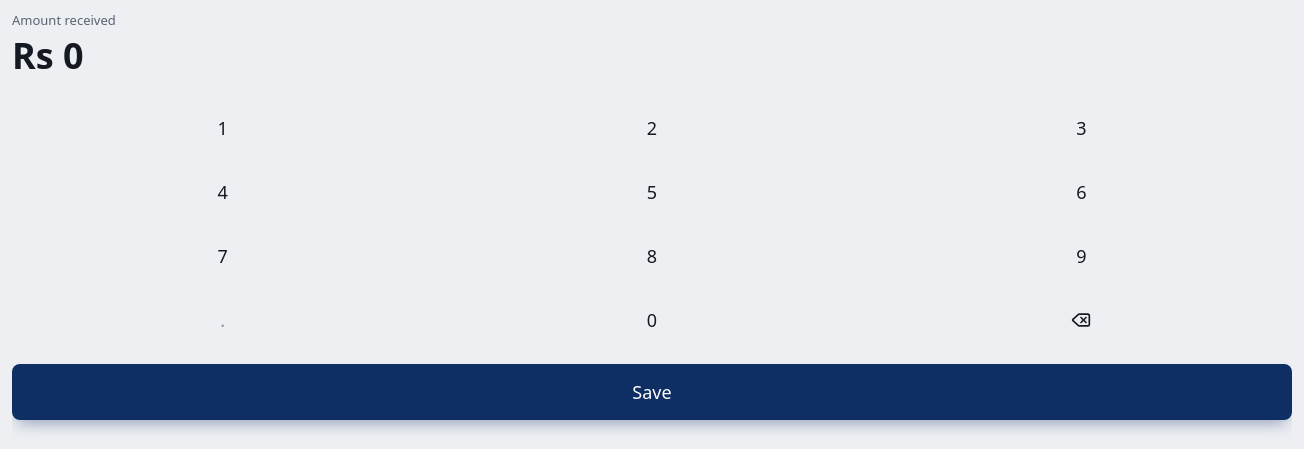
Test: digits build minor units from the right — no decimal-point state machine
What coordinates should you click on to do the following:
click the button "5"
I would click on:
 (652, 192)
Its box is [441, 164, 863, 220].
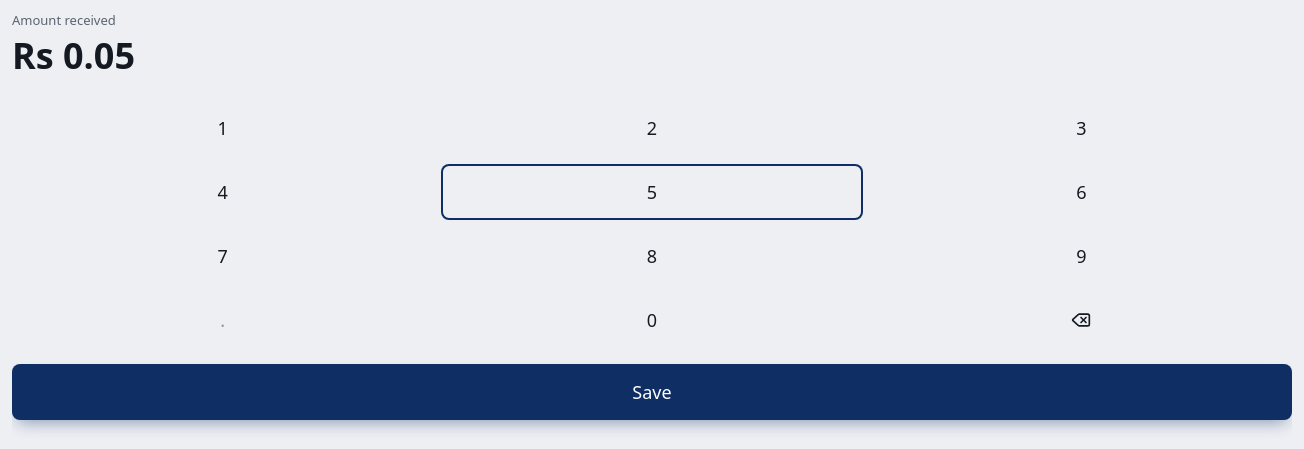
What coordinates should you click on to do the following:
click the button "0"
I would click on:
 (652, 320)
Its box is [441, 292, 863, 348].
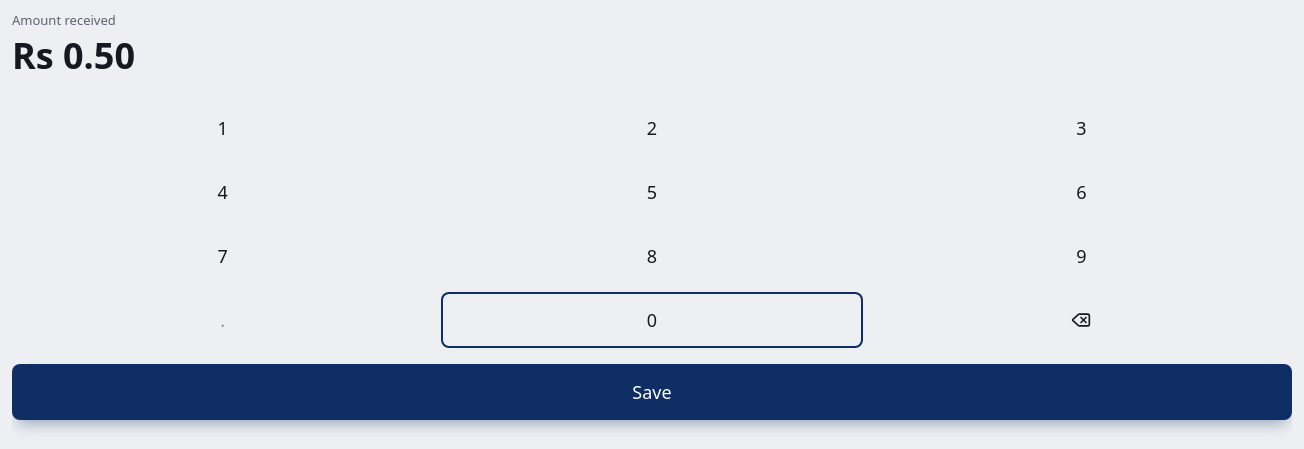
What coordinates should you click on to do the following:
click the button "0"
I would click on:
 (652, 320)
Its box is [441, 292, 863, 348].
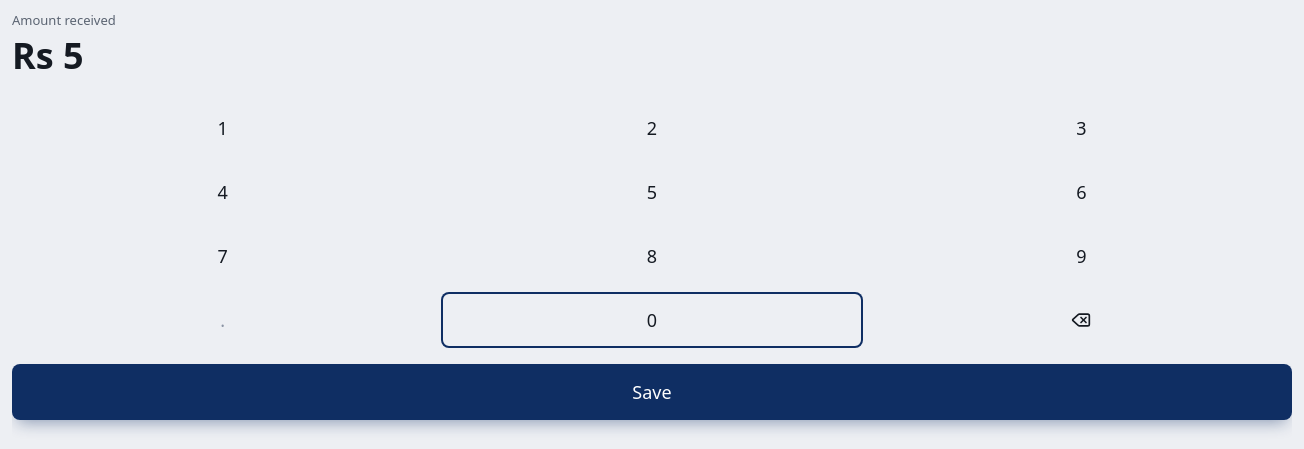
What coordinates should you click on to do the following:
click the button "0"
I would click on:
 (652, 320)
Its box is [441, 292, 863, 348].
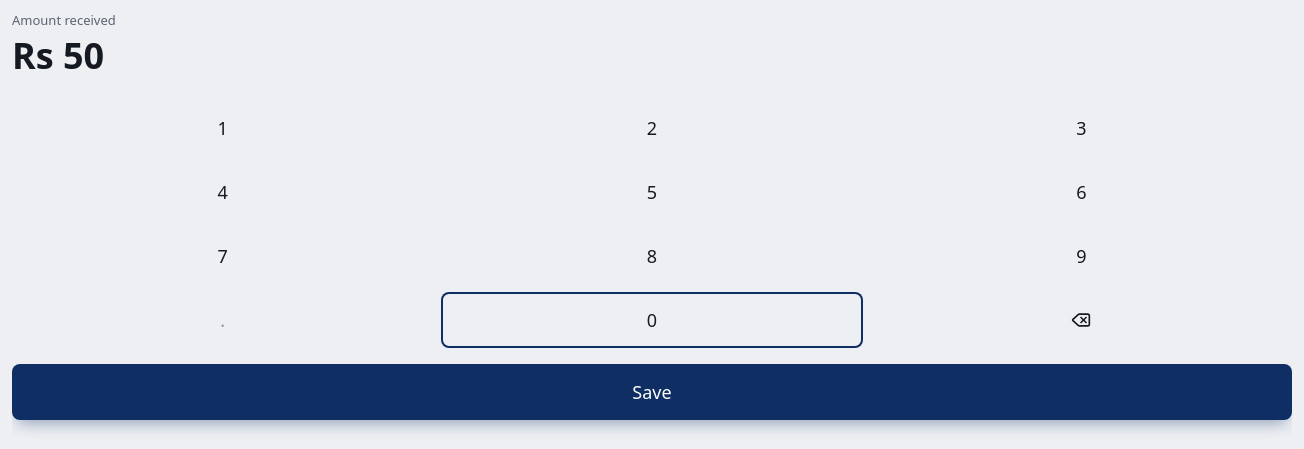
What coordinates should you click on to do the following:
click the button "0"
I would click on:
 (652, 320)
Its box is [441, 292, 863, 348].
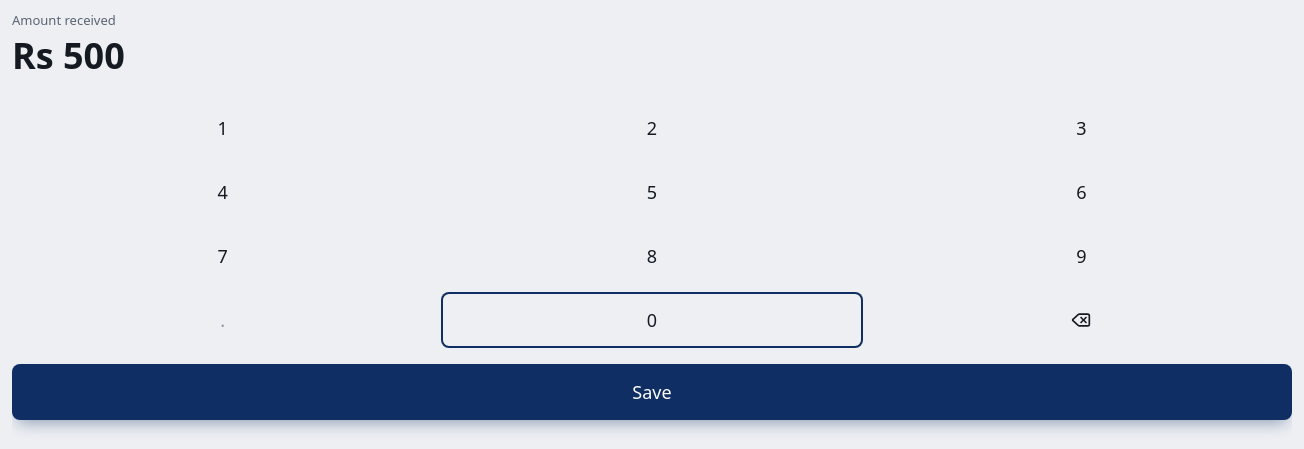
What coordinates should you click on to do the following:
click the button "0"
I would click on:
 (652, 320)
Its box is [441, 292, 863, 348].
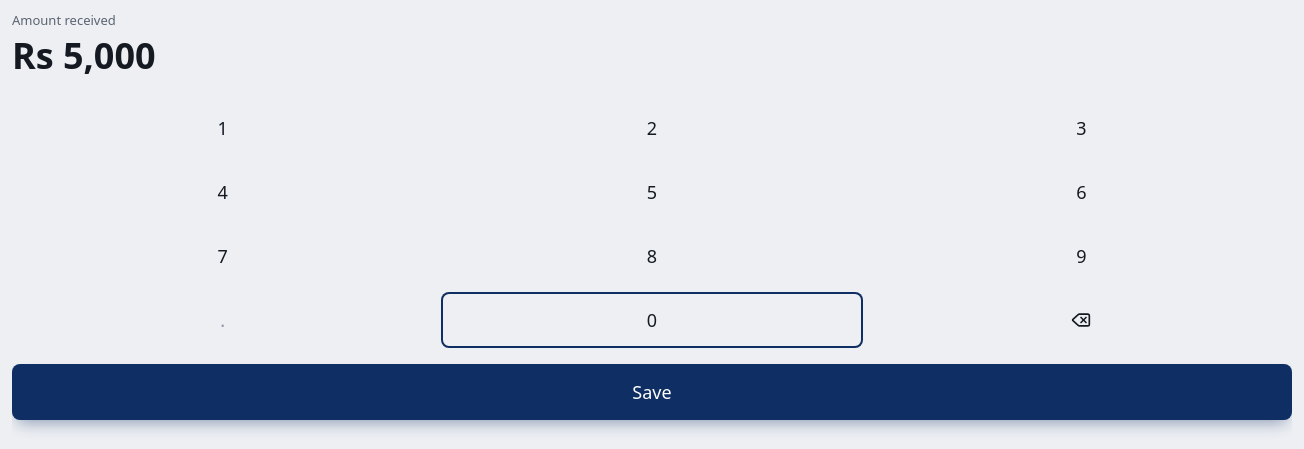
Result: the field named "Amount received" reads "Rs 5,000" at [12, 31, 156, 80]
